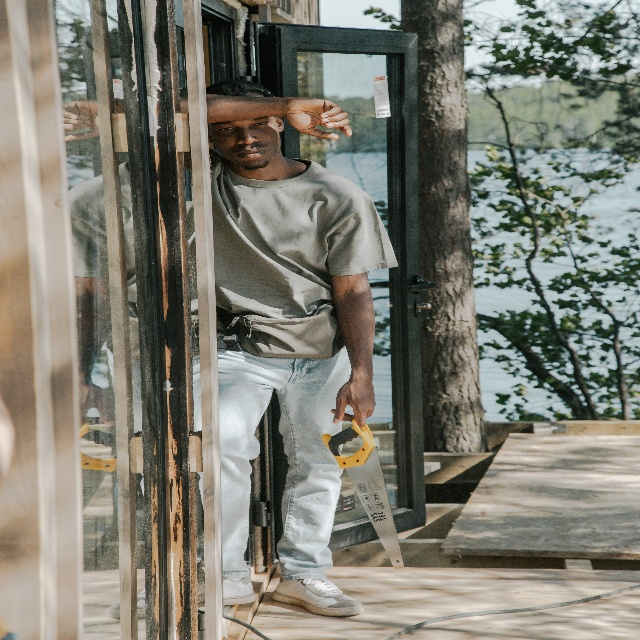Sin_guantes: (329, 377, 378, 422)
